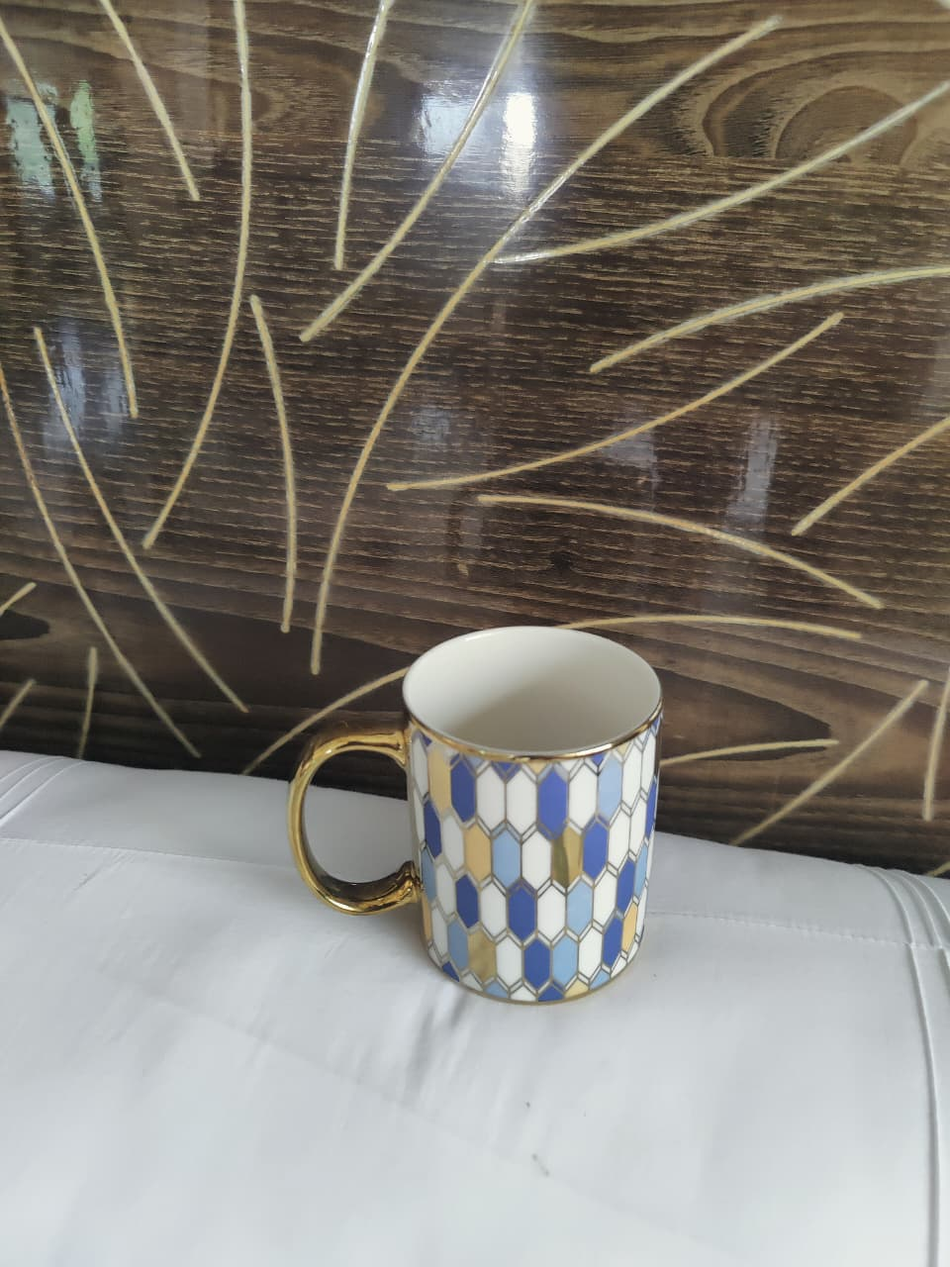cup: (287, 625, 667, 1007)
